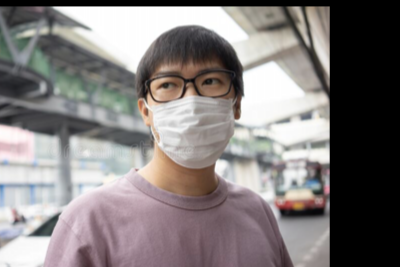with_mask: (147, 63, 236, 170)
